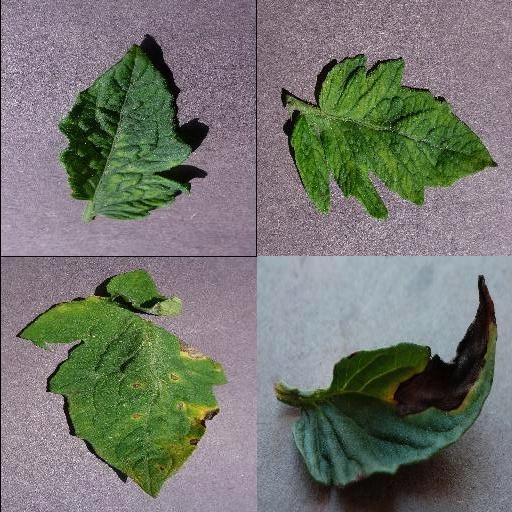Early Blight: (290, 274, 498, 491)
Mosaic Virus: (289, 52, 499, 220), (57, 44, 195, 220)
Septoria: (18, 300, 228, 500)
